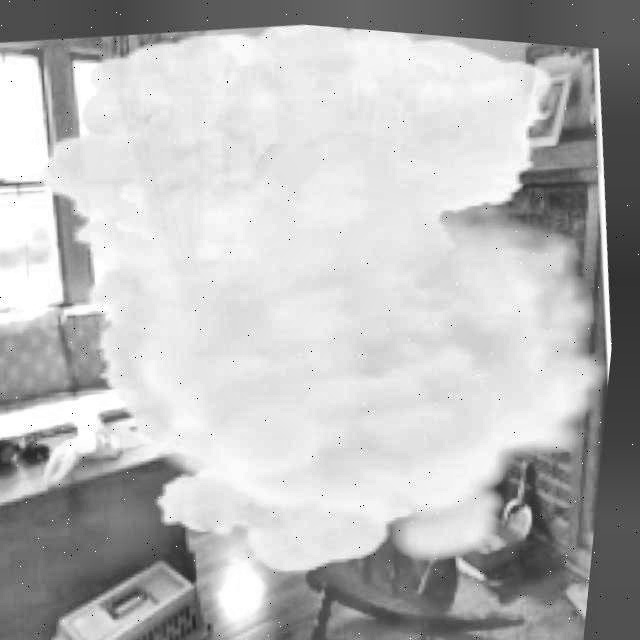Smoke: (22, 19, 616, 586)
